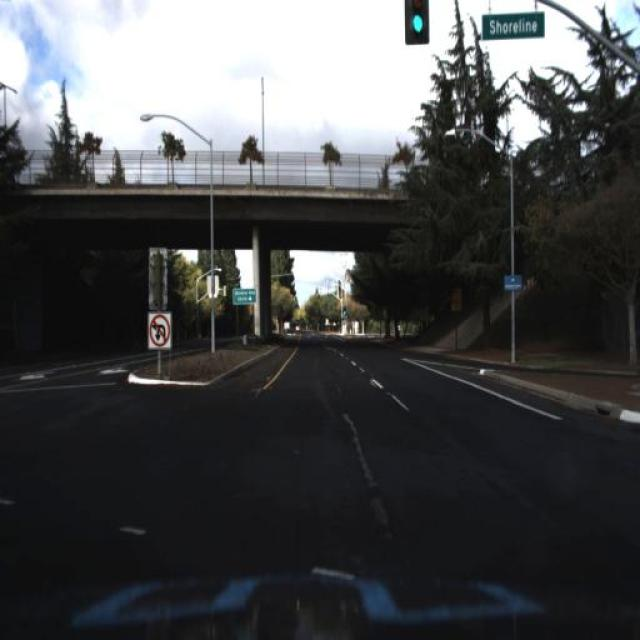trafficLight-GreenLeft: (404, 0, 430, 46)
